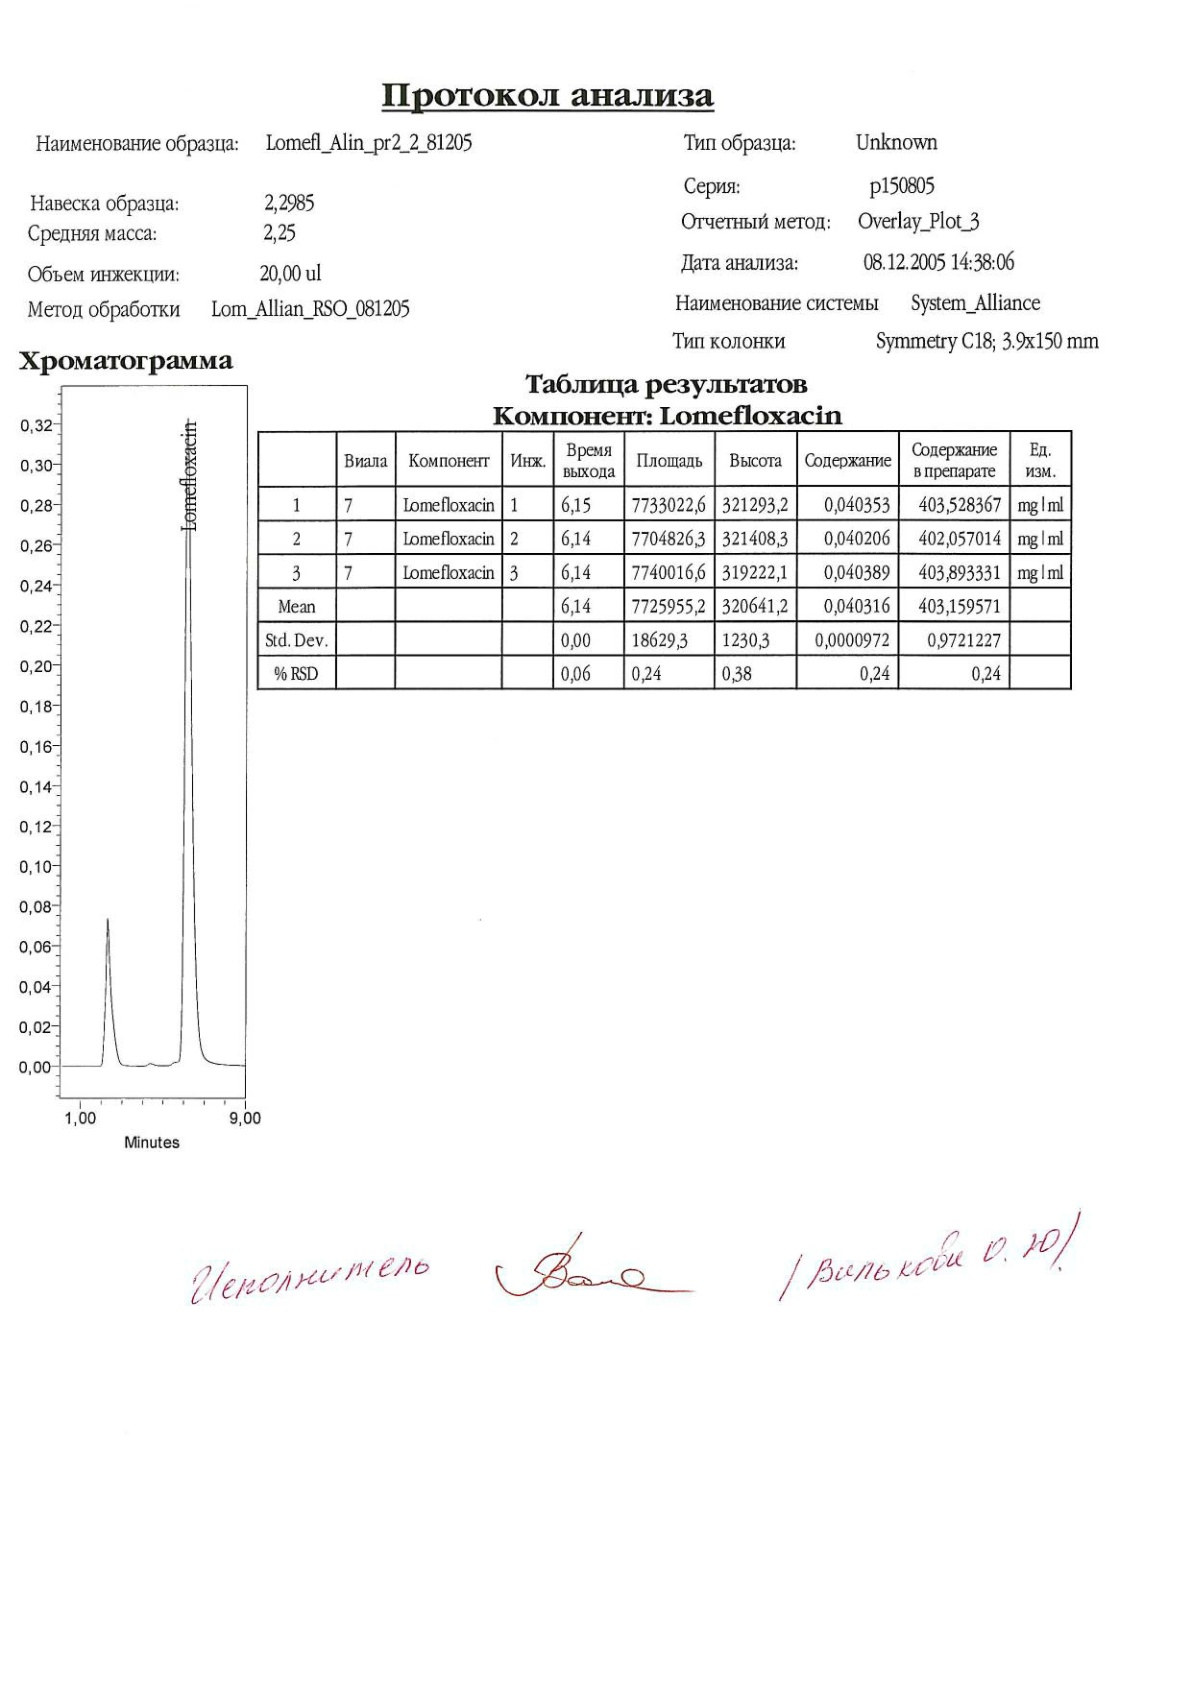full_lined: (255, 428, 1075, 692)
nolines: (25, 126, 1103, 355)
